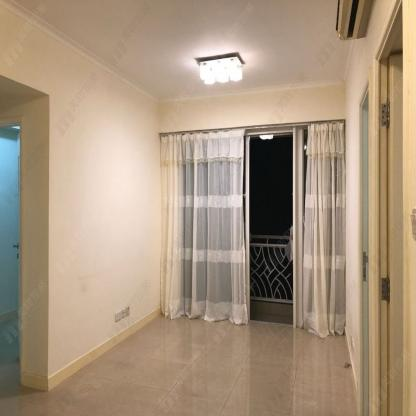AC: (334, 0, 373, 40)
